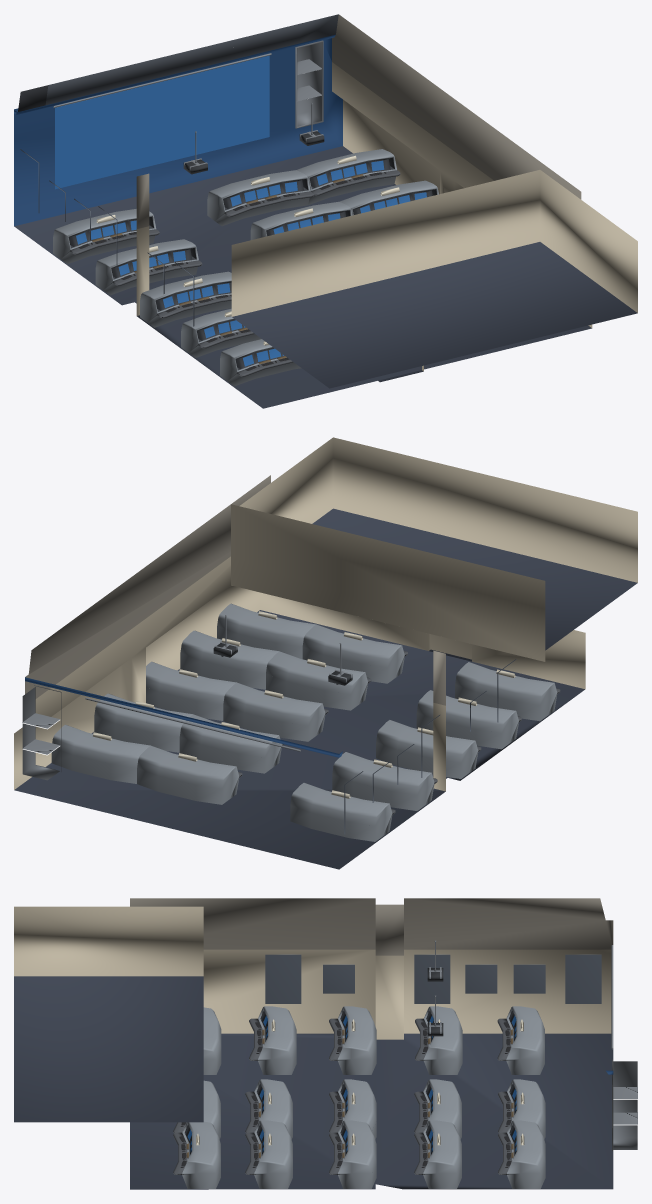
File: room.glb
The picture shows the model from 3 angles, top to bottom: view 1: azimuth 30°, elevation 25°; view 2: azimuth 150°, elevation 25°; view 3: azimuth 270°, elevation 25°; orthographic projection. The views are drawn at different scales.
Visible parts, largest first — view 1: jscmiscon1; view 2: jscmiscon1; view 3: jscmiscon1.
Part boxes in pixels (x1,y1,x2,y2): jscmiscon1: (14,14,637,408); jscmiscon1: (14,437,637,869); jscmiscon1: (14,898,637,1189).
Bounding box in the file's own units: 14.51 × 5.89 × 24.56.
